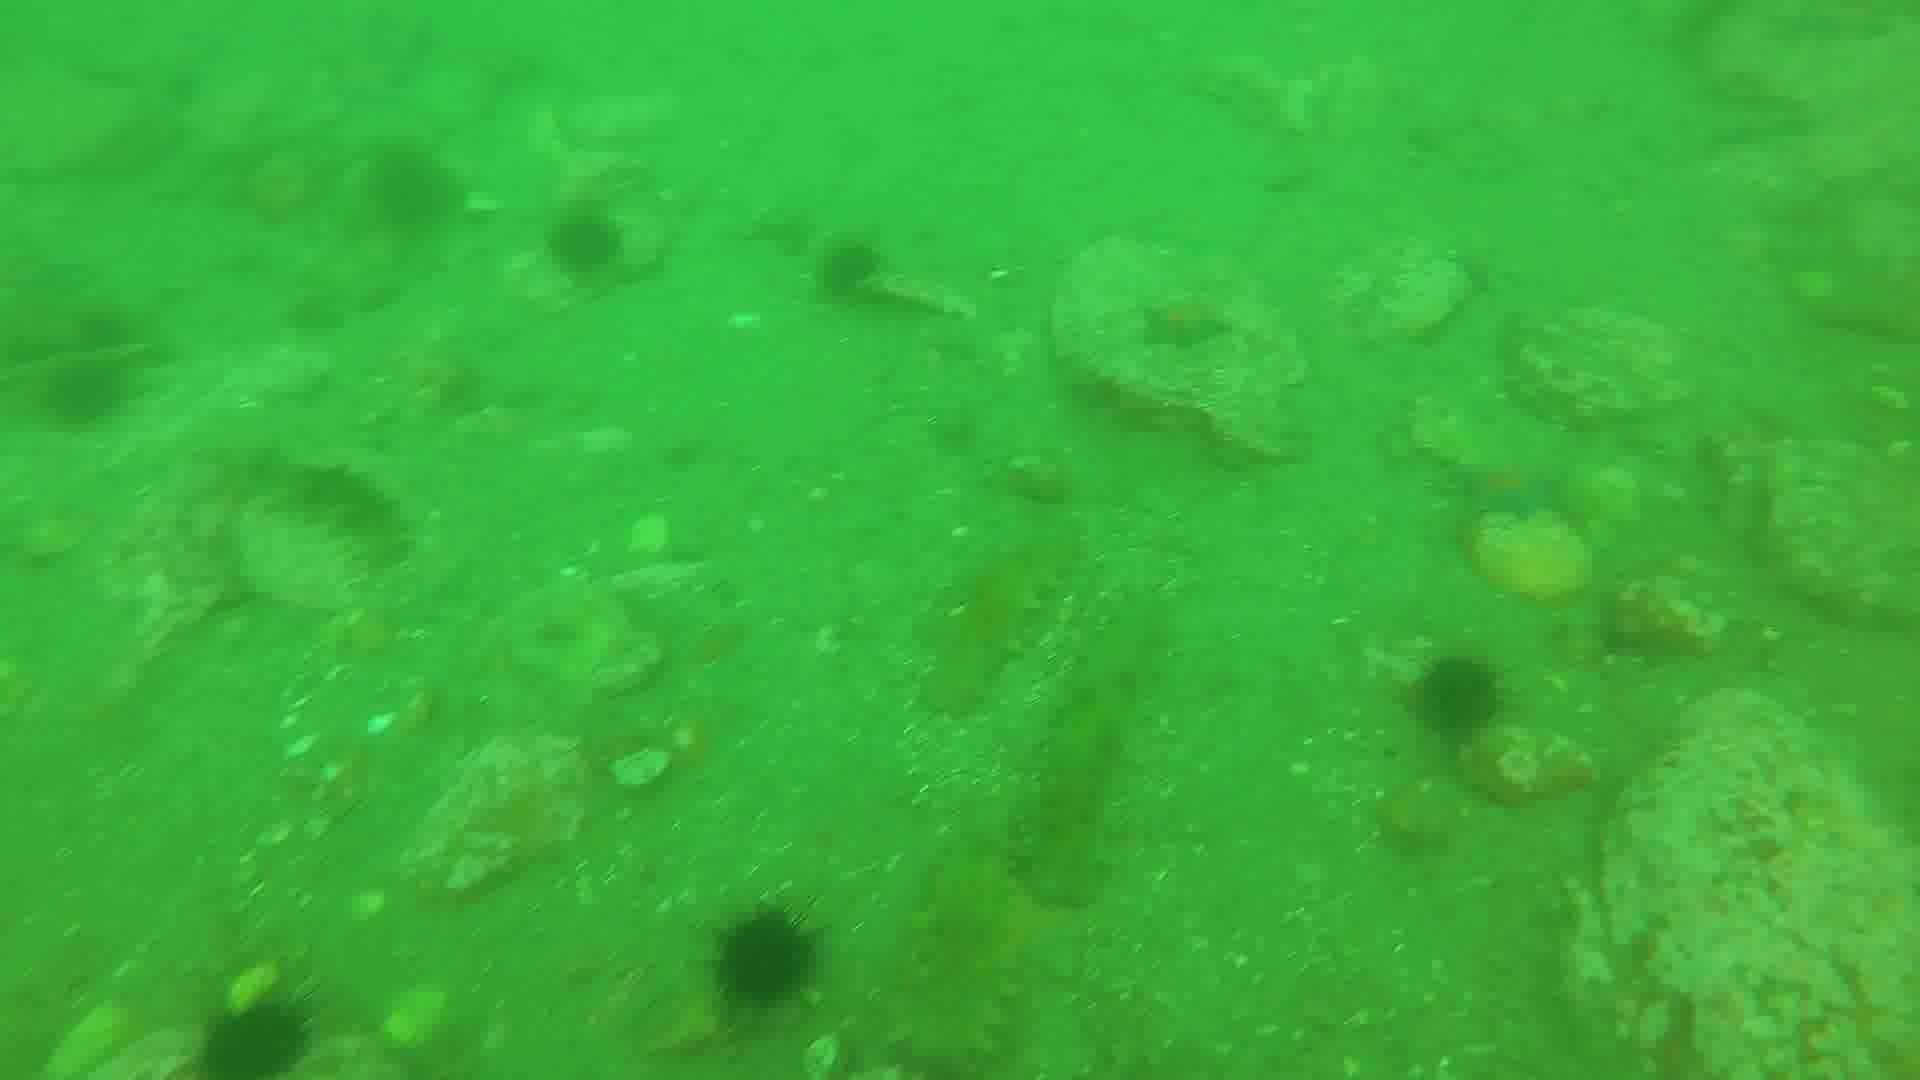echinus: (711, 905, 819, 1013), (204, 993, 322, 1080), (1422, 647, 1507, 746), (50, 359, 124, 434), (368, 153, 446, 220), (549, 208, 628, 274), (818, 240, 884, 298)
holothurian: (1025, 585, 1168, 905), (895, 796, 1038, 1073), (931, 524, 1084, 705), (256, 460, 418, 558)
starfish: (1453, 456, 1575, 526), (1143, 291, 1240, 348)
